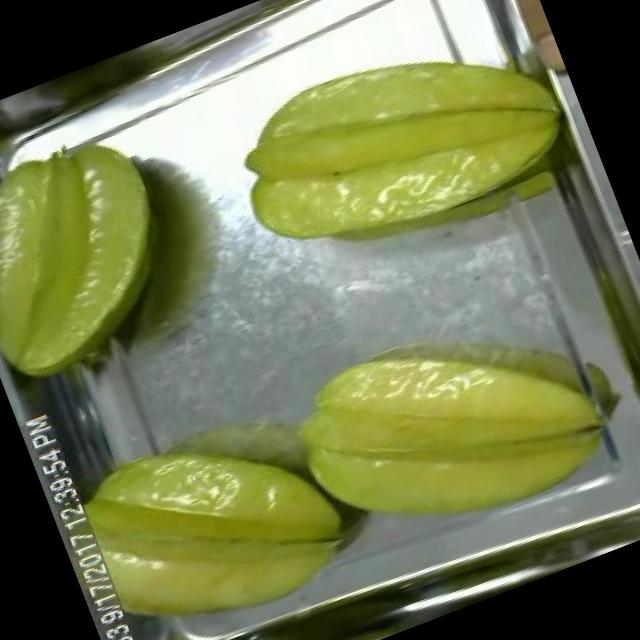fruit: (262, 276, 638, 587), (206, 0, 596, 296), (68, 383, 378, 640), (0, 109, 211, 403)
